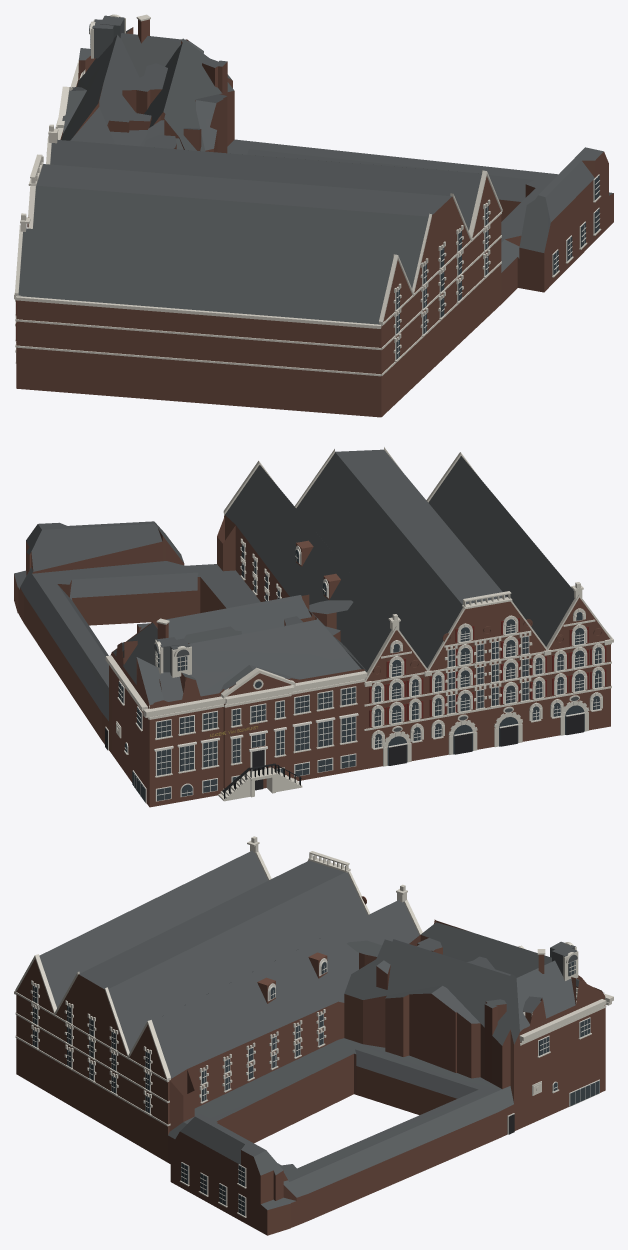
Rendered from academie-van-bouwkunst.glb.
The picture shows the model from 3 angles, top to bottom: view 1: azimuth 30°, elevation 25°; view 2: azimuth 150°, elevation 25°; view 3: azimuth 270°, elevation 25°; orthographic projection. The views are drawn at different scales.
Visible parts, largest first — view 1: academie-van-bouwkunst; view 2: academie-van-bouwkunst; view 3: academie-van-bouwkunst.
Part boxes in pixels (x1=…): academie-van-bouwkunst: x1=14, y1=14, x2=613, y2=417; academie-van-bouwkunst: x1=14, y1=447, x2=613, y2=807; academie-van-bouwkunst: x1=14, y1=836, x2=613, y2=1235.
Size of the model in its own units: 64.48 by 16.68 by 61.04.
